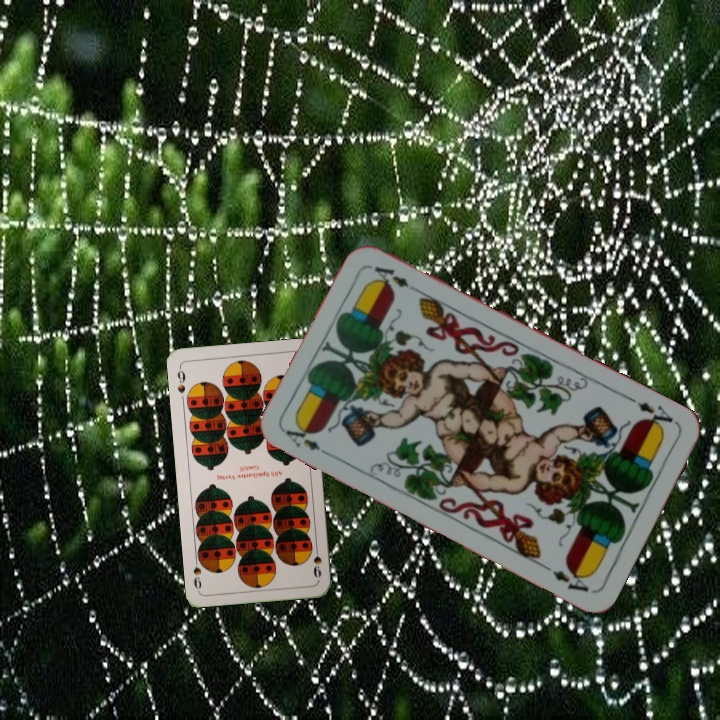EA: (281, 420, 335, 460), (633, 397, 680, 434)
S9: (309, 541, 324, 580), (173, 363, 188, 396)
